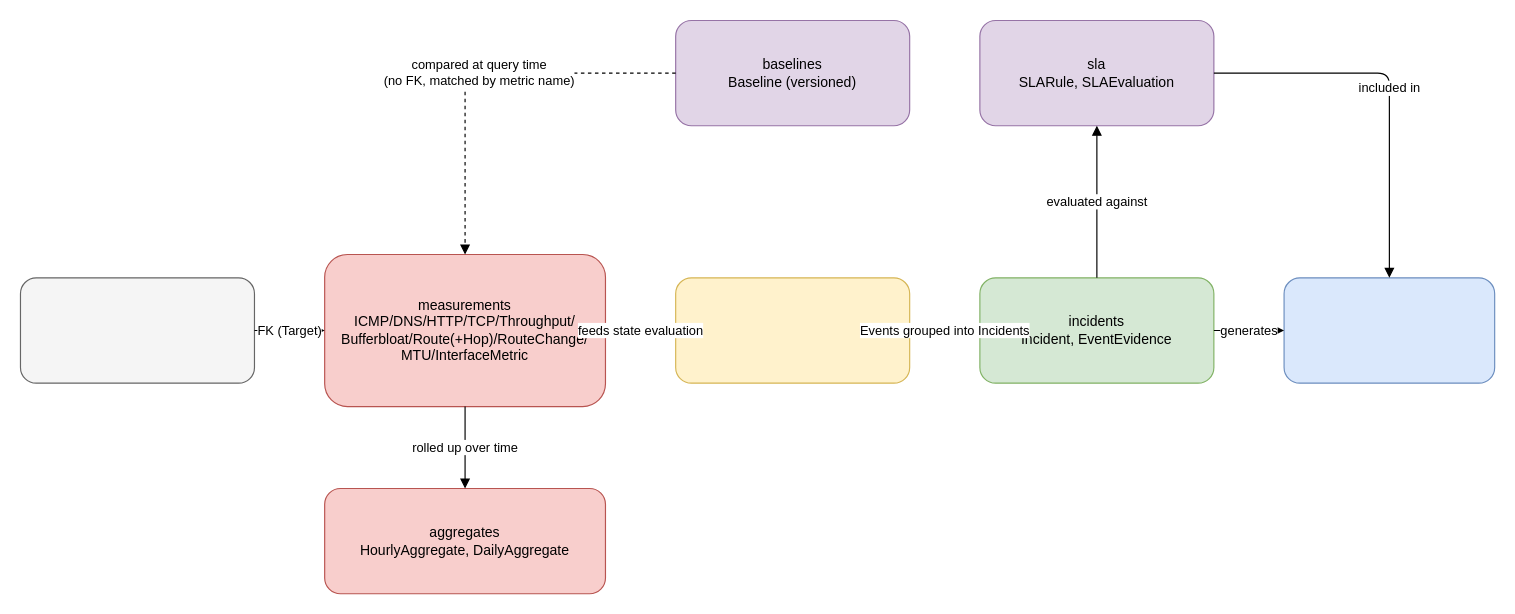
Image size: 1515x614. Some labels were removed from this diagram. Here are the shapes that lost their labels. From the top down, the centre of each, then its label:
At (x=136, y=330): "core Target, ScheduleConfig, RetentionPolicy".
At (x=792, y=330): "network_state NetworkStateLog, Event".
At (x=1389, y=330): "reports Report".
